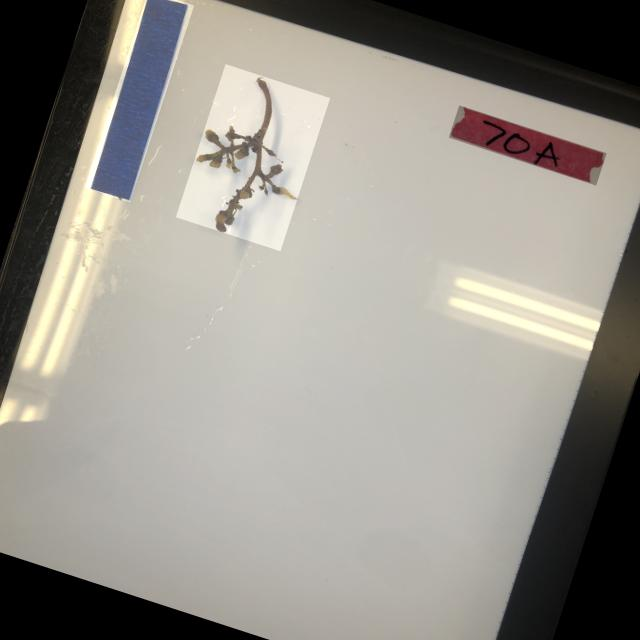index: (448, 106, 606, 186)
measure_label: (84, 0, 194, 202)
rachis_cluster: (176, 65, 330, 252)
